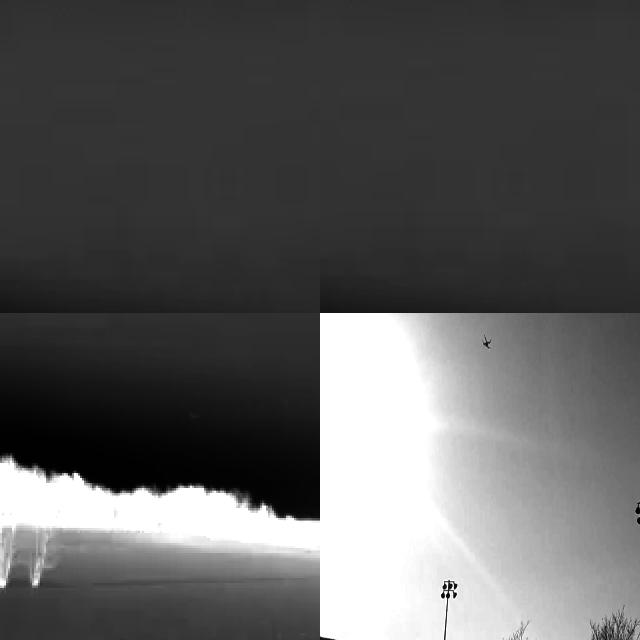0: (180, 401, 210, 433)
drone: (478, 330, 493, 353)
